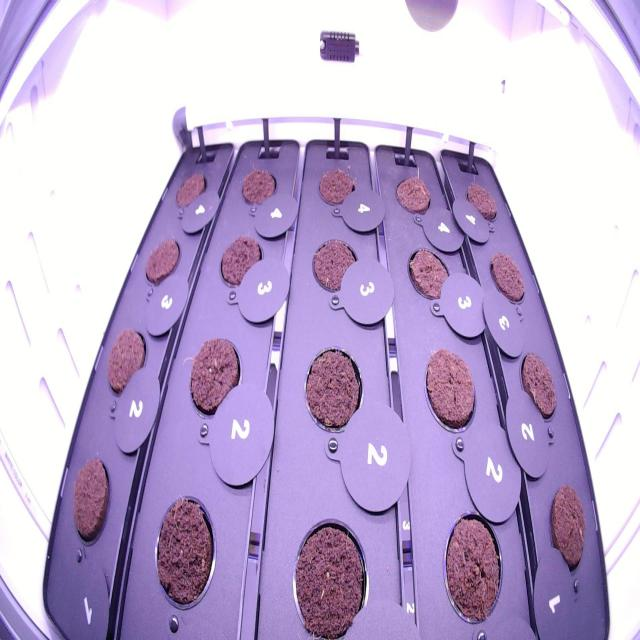pod: (281, 509, 373, 638), (146, 485, 220, 615), (437, 500, 507, 634), (297, 340, 368, 437), (417, 342, 479, 437), (186, 331, 245, 422), (544, 477, 589, 587), (65, 452, 114, 552), (306, 232, 362, 301), (402, 242, 455, 312), (514, 346, 560, 426), (104, 322, 150, 398), (216, 228, 267, 293), (484, 247, 530, 308), (311, 163, 360, 218), (390, 168, 436, 223), (458, 177, 502, 232), (140, 231, 182, 288), (236, 162, 279, 212), (170, 167, 210, 218)
